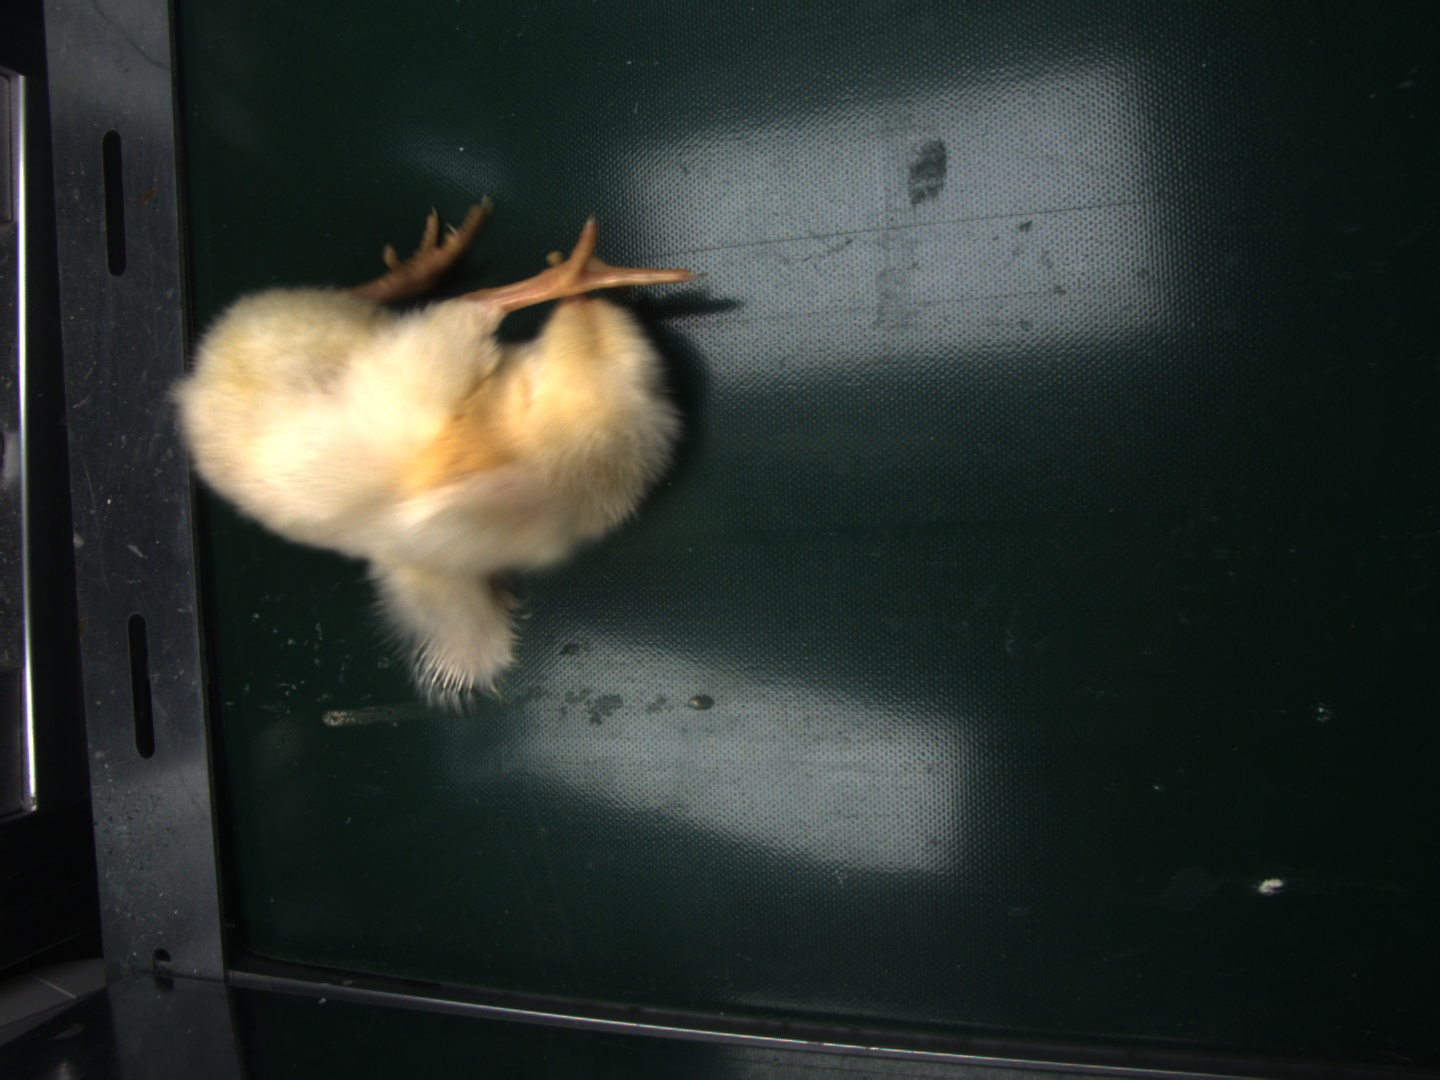male: (418, 638, 475, 701)
